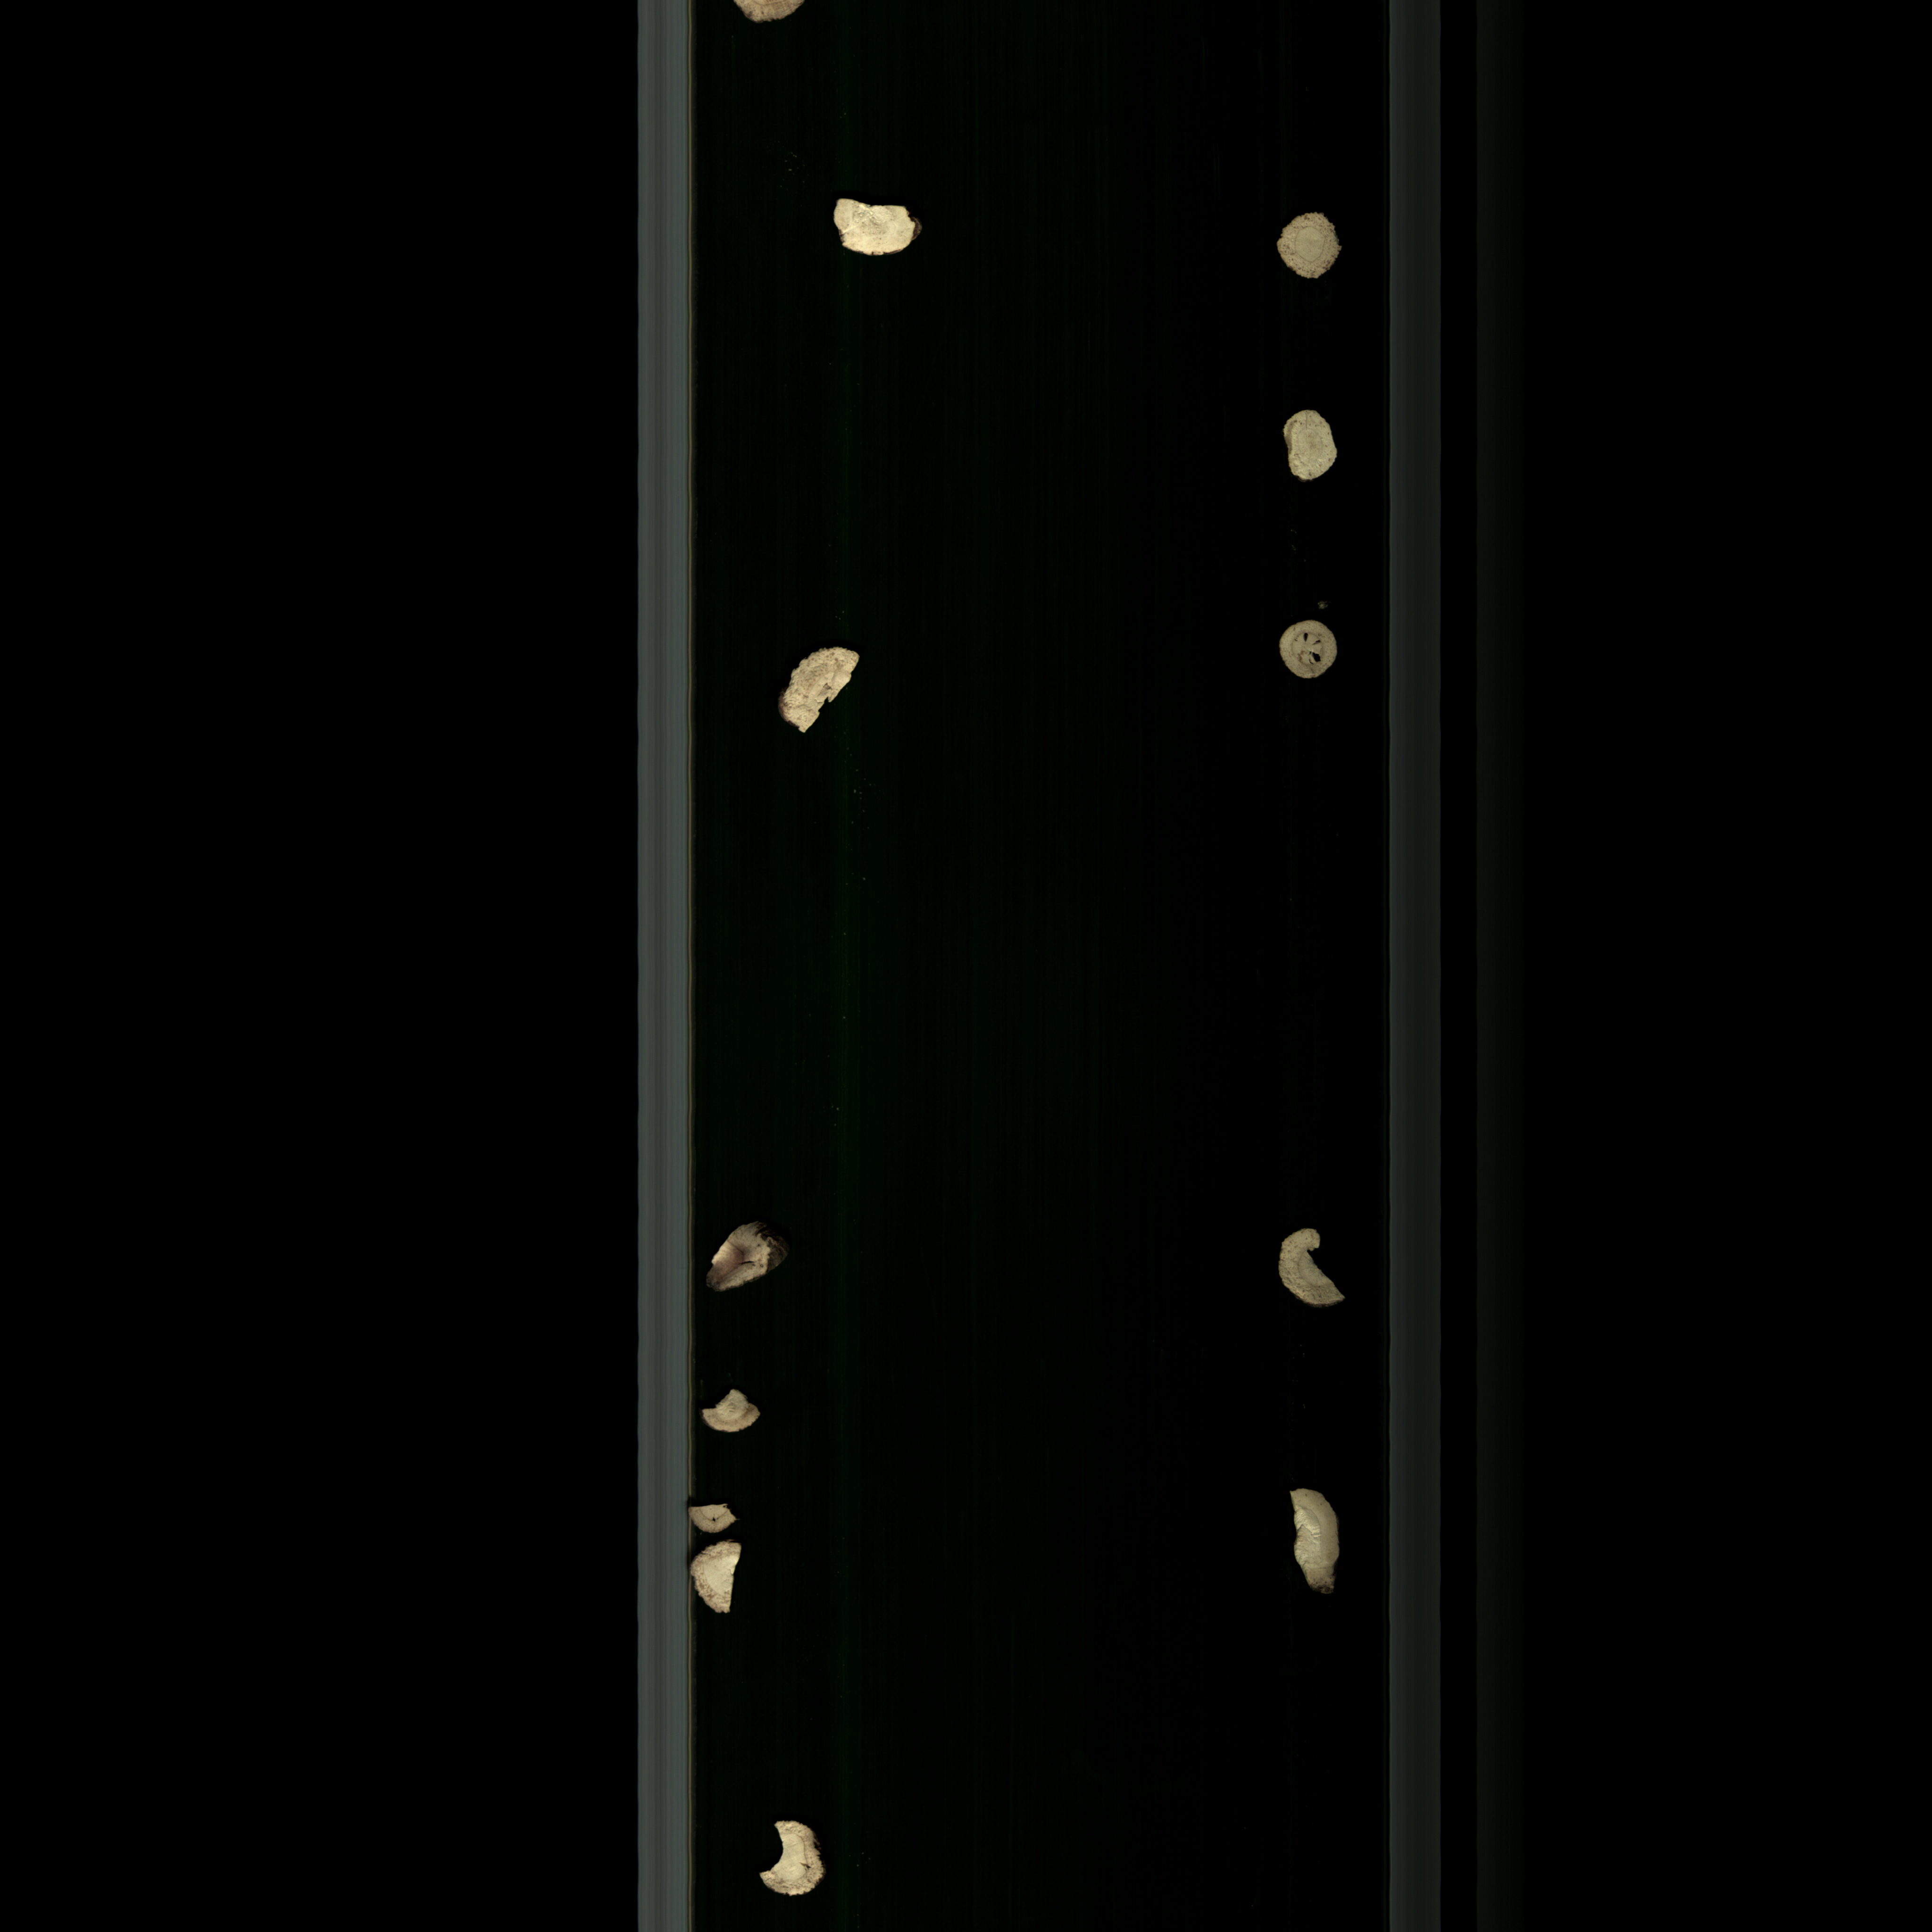debris: (770, 640, 872, 748), (1263, 1221, 1369, 1316), (1283, 1483, 1364, 1606), (821, 186, 929, 269), (754, 1810, 839, 1907), (683, 1543, 763, 1617), (692, 1382, 766, 1444)
distortion: (1276, 403, 1352, 485)
dreg: (688, 1493, 750, 1537)
hole: (1277, 610, 1348, 694)
moldy: (699, 1212, 805, 1297)
